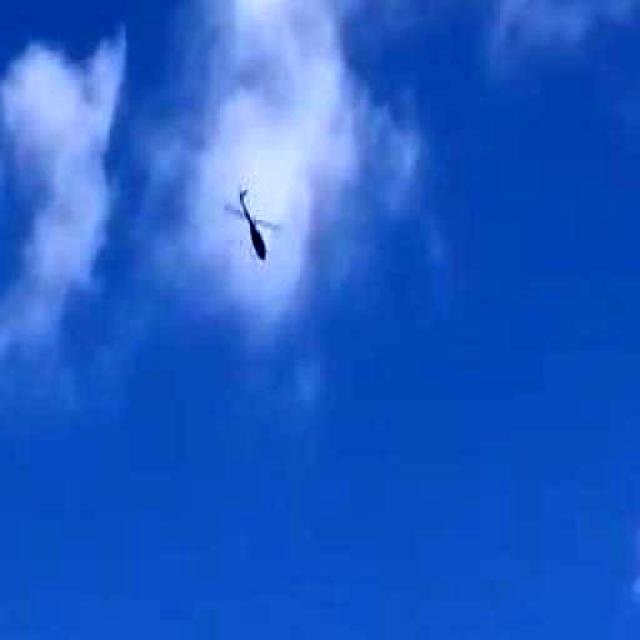drone: (202, 168, 302, 280)
